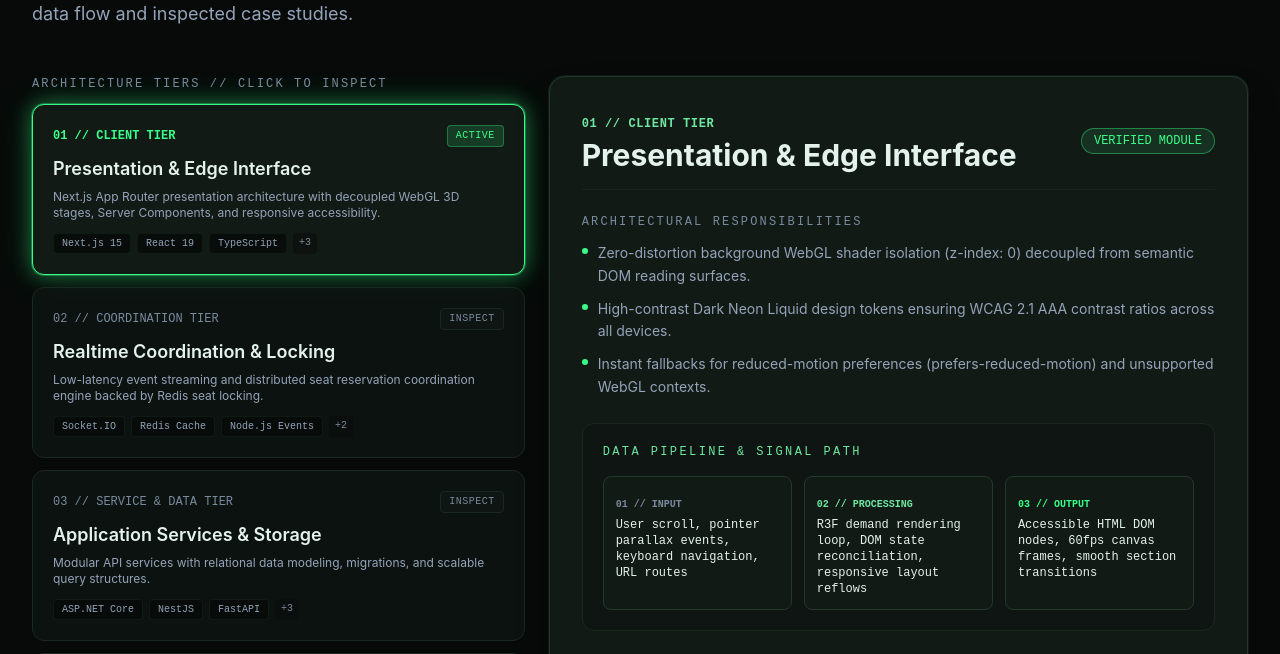
Test: Chapter 04: Inside the System › renders conceptual system diagram and clickable subsystem cards
(page scrolled)
Expected: the tab "Presentation & Edge Interface" is shown, [32,104,525,275]
Expected: the tab "Application Services & Storage" is shown, [32,470,525,641]
// Switch to Realtime tier
Click the tab "Realtime Coordination & Locking": (278, 372) [32,287,525,458]
(page scrolled)
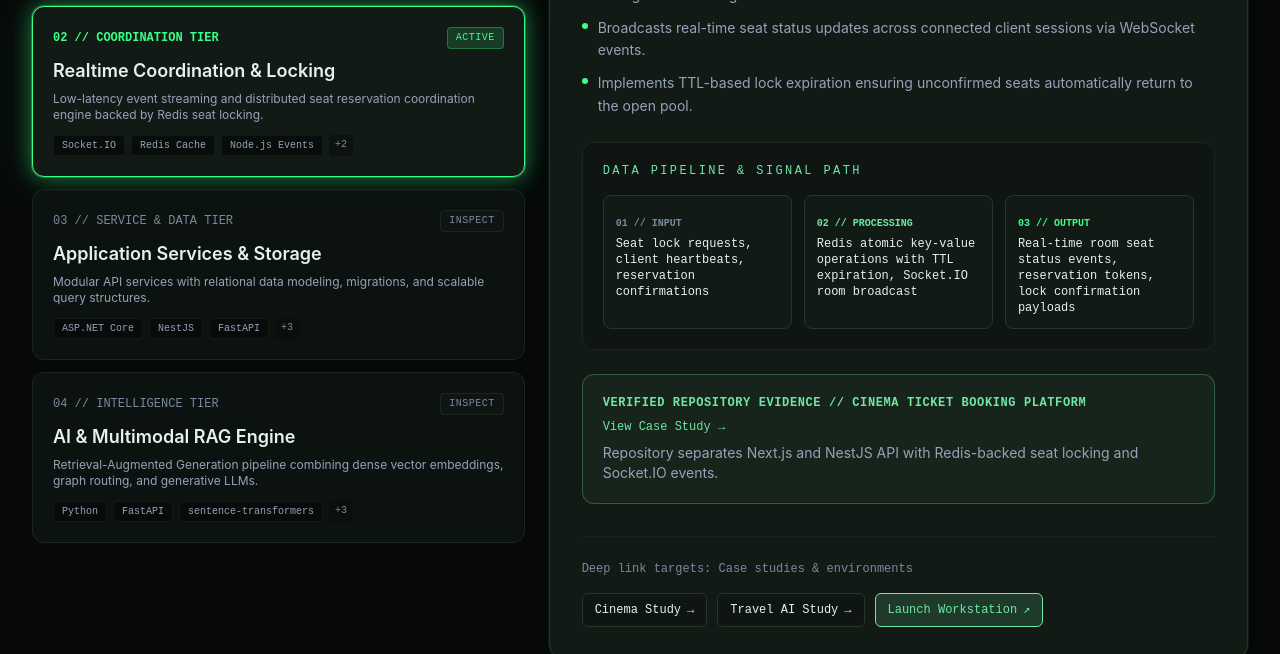
Expected: the text "Cinema Ticket Booking Platform" is shown, [603,396,1086,410]
// Switch to AI tier
Click the tab "AI & Multimodal RAG Engine": (278, 458) [32,372,525,543]
(page scrolled)
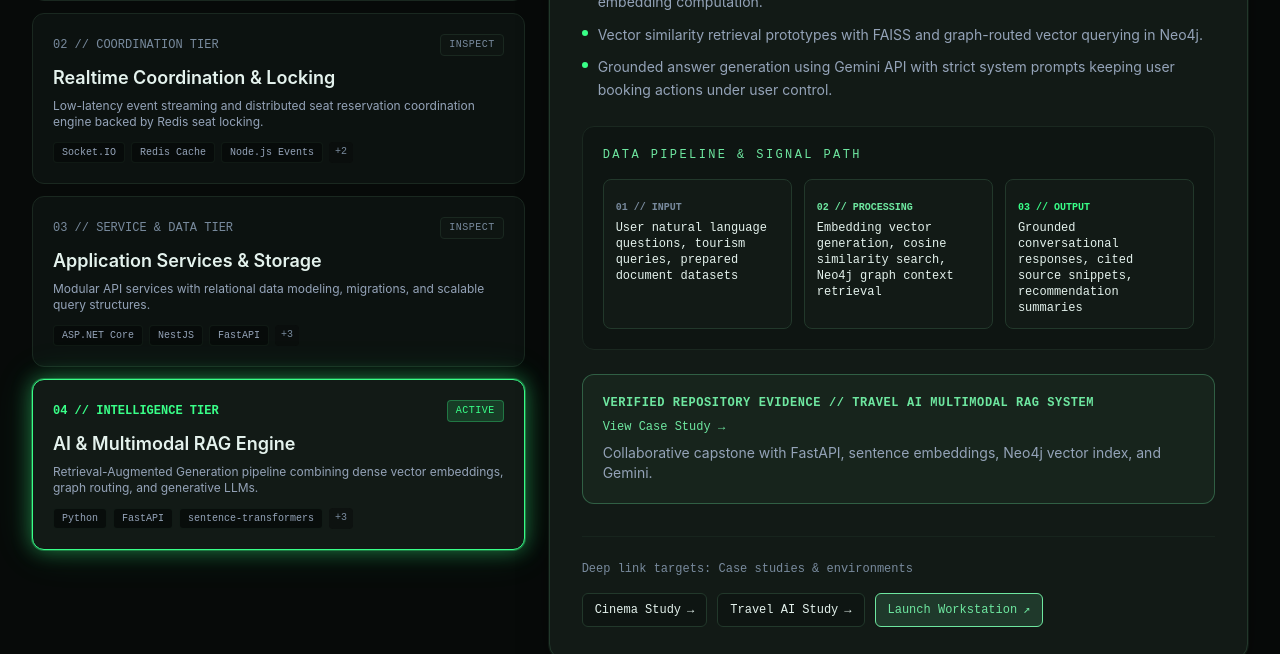
Expected: the text "Travel AI Multimodal RAG System" is shown, [603,396,1094,410]
